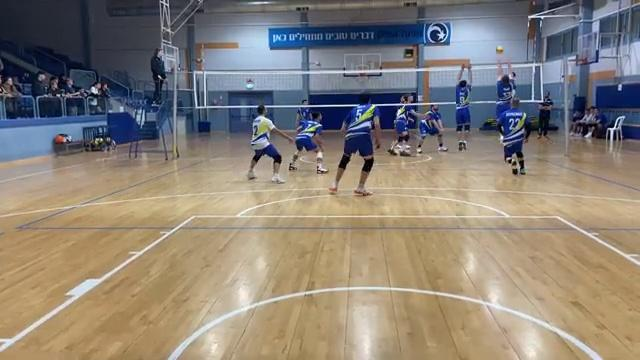ball: (494, 43, 506, 55)
